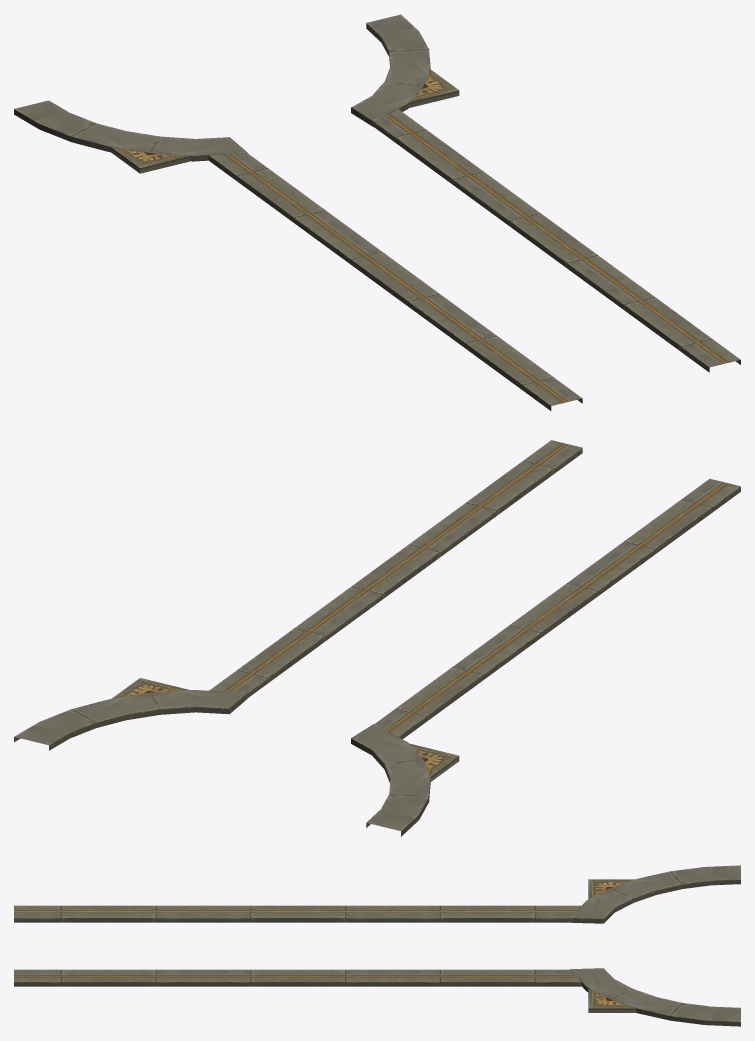
The model's file is DN_mcdibiaozj01.FBX.
3 renders of one model, top to bottom at view 1: azimuth 30°, elevation 25°; view 2: azimuth 150°, elevation 25°; view 3: azimuth 270°, elevation 25°, orthographic. The views are drawn at different scales.
Parts seen in each view (by area): view 1: DN_mcdibiaozj01; view 2: DN_mcdibiaozj01; view 3: DN_mcdibiaozj01.
Part boxes in pixels (bbox=[...]): DN_mcdibiaozj01: bbox=[14, 14, 740, 410]; DN_mcdibiaozj01: bbox=[14, 440, 740, 836]; DN_mcdibiaozj01: bbox=[14, 865, 740, 1026].
Bounding box in the file's own units: 1759 × 24.42 × 3451.
1 material, 1 textured.
